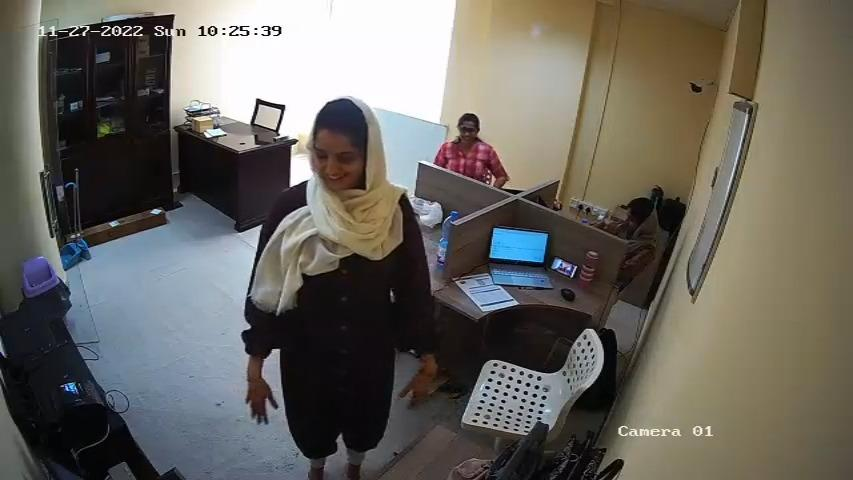no_apron: (289, 194, 391, 420)
